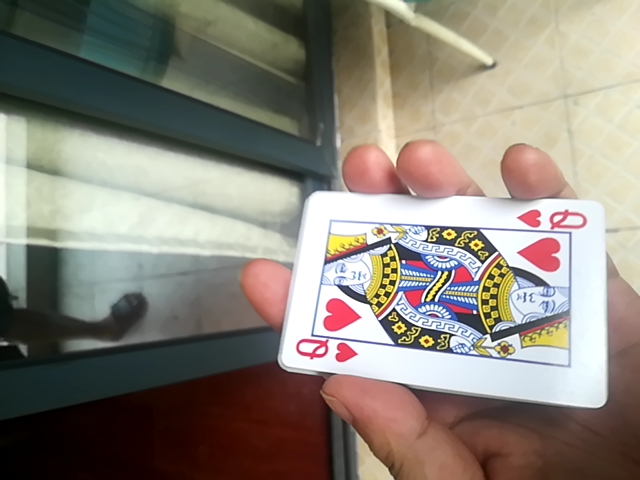hx q: (280, 183, 609, 408)
